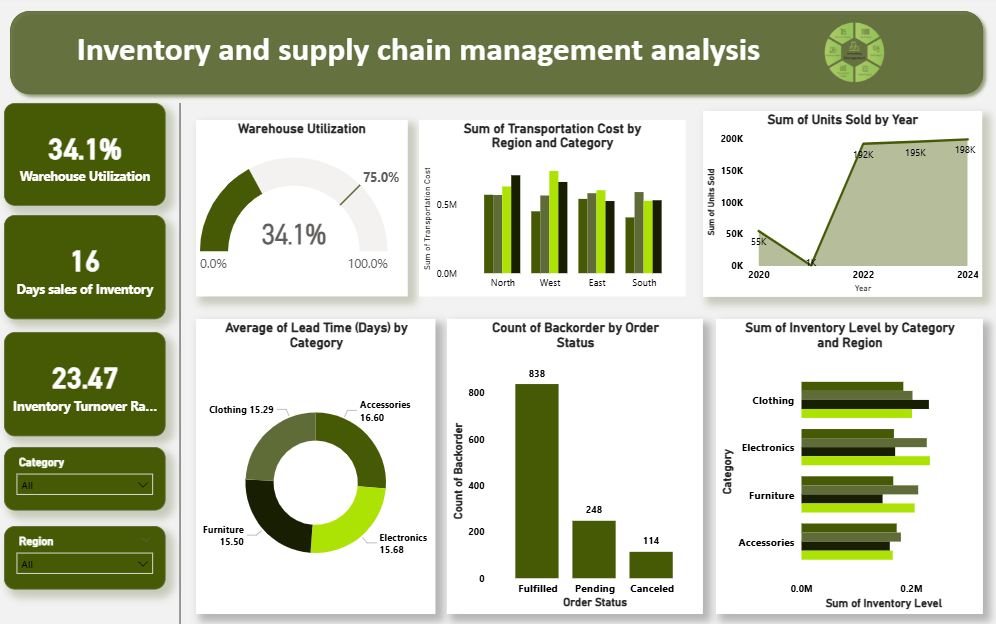

What the dashboard file says about the page in this screenshot:
{"tool":"powerbi","page":{"name":"Page 1","canvas":[1280,800],"ordinal":0},"visuals":[{"type":"shape","box":[10.7,10.7,1258.6,124],"z":0},{"type":"textbox","box":[35.2,35.2,1009,75],"z":1000},{"type":"image","box":[999.8,21.4,192.9,99.5],"z":2000},{"type":"shape","box":[217.3,135.8,38.4,664.8],"z":3000},{"type":"card","fields":{"Values":["Inventory_SupplyChain_Dataset.Warehouse Utilization"]},"box":[11.2,135.8,206.1,131],"z":4000},{"type":"card","fields":{"Values":["Inventory_SupplyChain_Dataset.Days sales of Inventory"]},"box":[11.2,279.7,206.1,132.6],"z":5000},{"type":"card","fields":{"Values":["Inventory_SupplyChain_Dataset.Inventory Turnover Ratio"]},"box":[11.2,428.3,206.1,132.6],"z":6000},{"type":"slicer","fields":{"Values":["Inventory_SupplyChain_Dataset.Category"]},"box":[11.2,575.3,206.1,81.5],"z":7000},{"type":"slicer","fields":{"Values":["Inventory_SupplyChain_Dataset.Region"]},"box":[11.2,676,206.1,81.5],"z":8000},{"type":"gauge","fields":{"Y":["Inventory_SupplyChain_Dataset.Warehouse Utilization"]},"box":[255.7,158.2,270.1,225.3],"z":9000},{"type":"clusteredColumnChart","fields":{"Y":["Sum(Inventory_SupplyChain_Dataset.Transportation Cost)"],"Category":["Inventory_SupplyChain_Dataset.Region"],"Series":["Inventory_SupplyChain_Dataset.Category"]},"box":[540.1,158.2,340.4,225.3],"z":10000},{"type":"areaChart","fields":{"Category":["Inventory_SupplyChain_Dataset.Date.Variation.Date Hierarchy.Year"],"Y":["Sum(Inventory_SupplyChain_Dataset.Units Sold)"]},"box":[902.9,147,356.4,236.5],"z":11000},{"type":"donutChart","fields":{"Y":["Avg(Inventory_SupplyChain_Dataset.Lead Time (Days))"],"Category":["Inventory_SupplyChain_Dataset.Category"]},"box":[255.7,412.3,305.2,375.5],"z":12000},{"type":"columnChart","fields":{"Category":["Inventory_SupplyChain_Dataset.Order Status"],"Y":["CountNonNull(Inventory_SupplyChain_Dataset.Backorder)"]},"box":[576.9,412.3,326,375.5],"z":13000},{"type":"clusteredBarChart","fields":{"Y":["Sum(Inventory_SupplyChain_Dataset.Inventory Level)"],"Category":["Inventory_SupplyChain_Dataset.Category"],"Series":["Inventory_SupplyChain_Dataset.Region"]},"box":[919,412,340,376],"z":13001}]}

Visuals, with their boxes in screenshot pixels (x1, y1, x2, y2), scaled from the page's 1280x800 canvas onto the 996x624 screenshot:
shape: rect(8, 8, 988, 105)
textbox: rect(27, 27, 813, 86)
image: rect(778, 17, 928, 94)
shape: rect(169, 106, 199, 623)
card - Inventory_SupplyChain_Dataset.Warehouse Utilization: rect(9, 106, 169, 208)
card - Inventory_SupplyChain_Dataset.Days sales of Inventory: rect(9, 218, 169, 322)
card - Inventory_SupplyChain_Dataset.Inventory Turnover Ratio: rect(9, 334, 169, 438)
slicer - Inventory_SupplyChain_Dataset.Category: rect(9, 449, 169, 512)
slicer - Inventory_SupplyChain_Dataset.Region: rect(9, 527, 169, 591)
gauge - Inventory_SupplyChain_Dataset.Warehouse Utilization: rect(199, 123, 409, 299)
clusteredColumnChart - Sum(Inventory_SupplyChain_Dataset.Transportation Cost) x Inventory_SupplyChain_Dataset.Region: rect(420, 123, 685, 299)
areaChart - Inventory_SupplyChain_Dataset.Date.Variation.Date Hierarchy.Year x Sum(Inventory_SupplyChain_Dataset.Units Sold): rect(703, 115, 980, 299)
donutChart - Avg(Inventory_SupplyChain_Dataset.Lead Time (Days)) x Inventory_SupplyChain_Dataset.Category: rect(199, 322, 436, 614)
columnChart - Inventory_SupplyChain_Dataset.Order Status x CountNonNull(Inventory_SupplyChain_Dataset.Backorder): rect(449, 322, 703, 614)
clusteredBarChart - Sum(Inventory_SupplyChain_Dataset.Inventory Level) x Inventory_SupplyChain_Dataset.Category: rect(715, 321, 980, 615)
